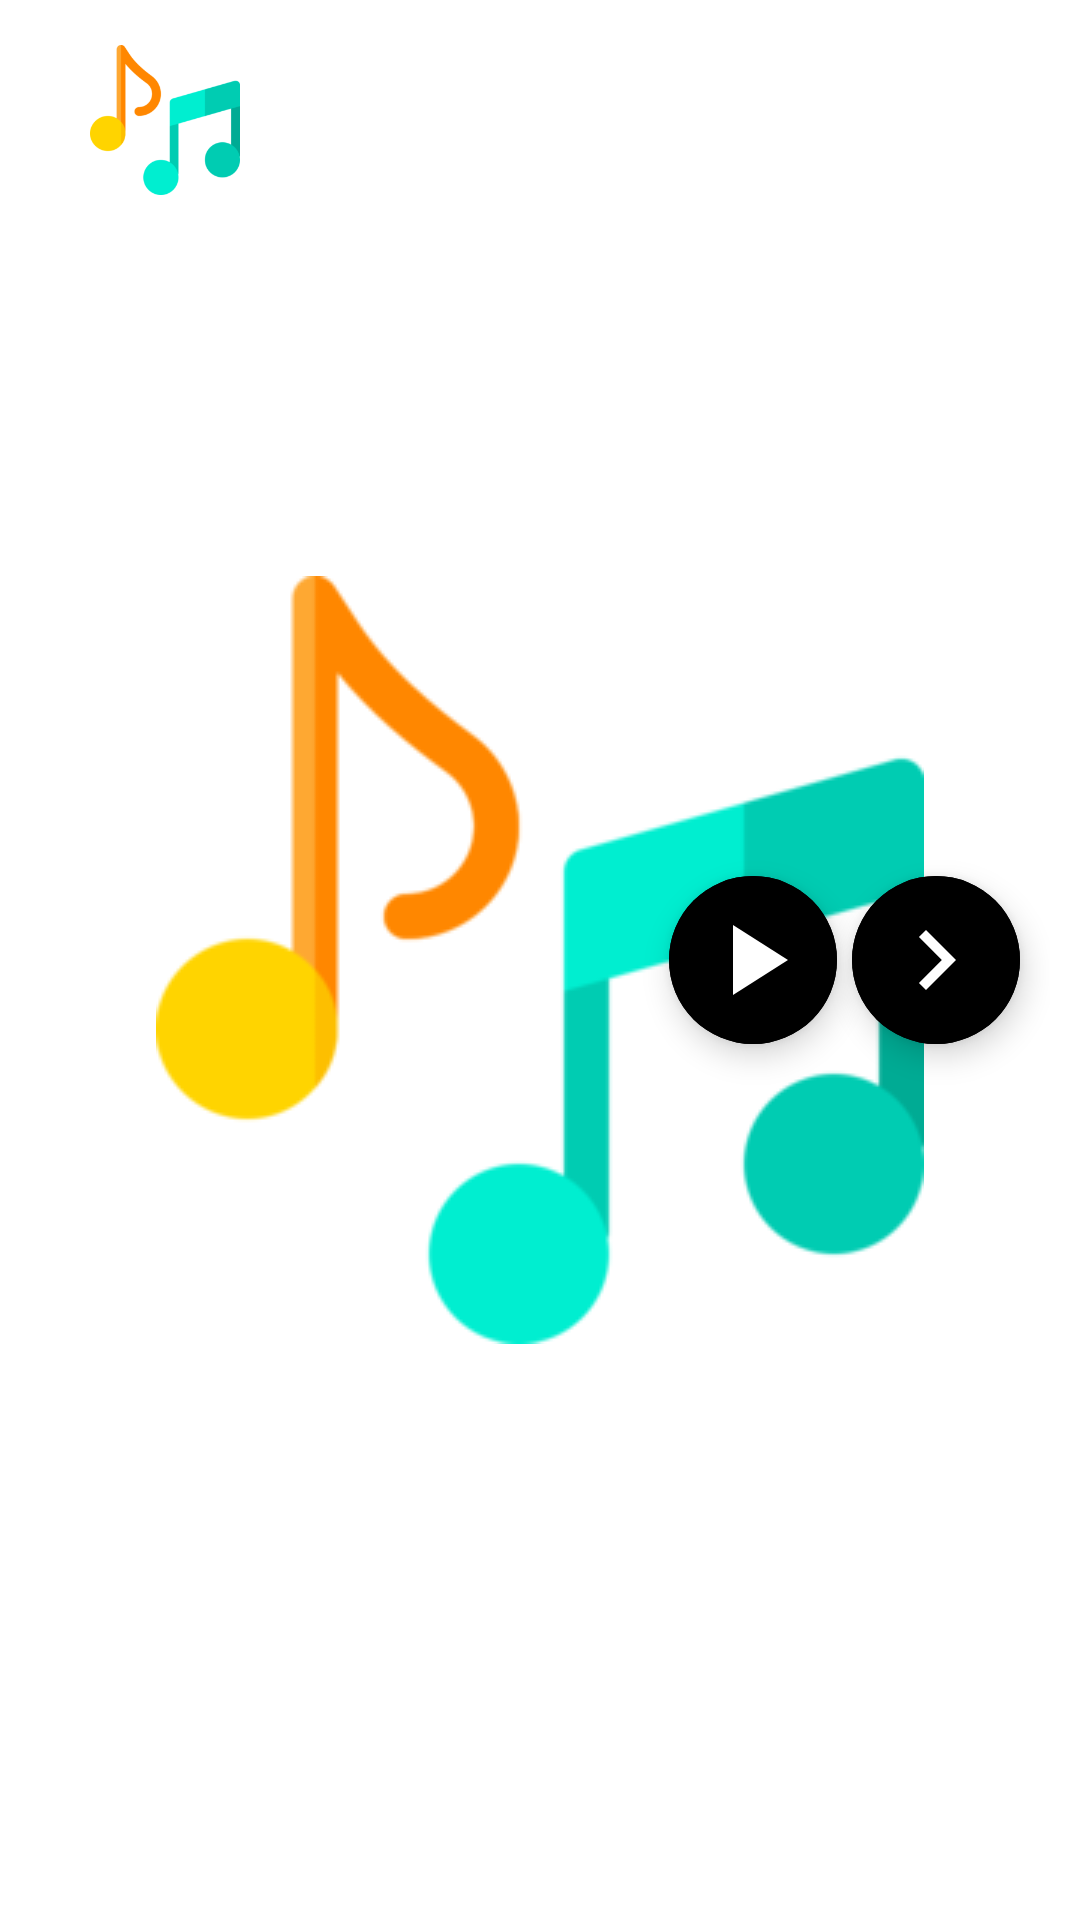

Named icons in this screenshot (1080×1920) and their centers, point (x, y):
music player: point (165, 120)
Next: point (936, 960)
Pause or Play: point (753, 960)
